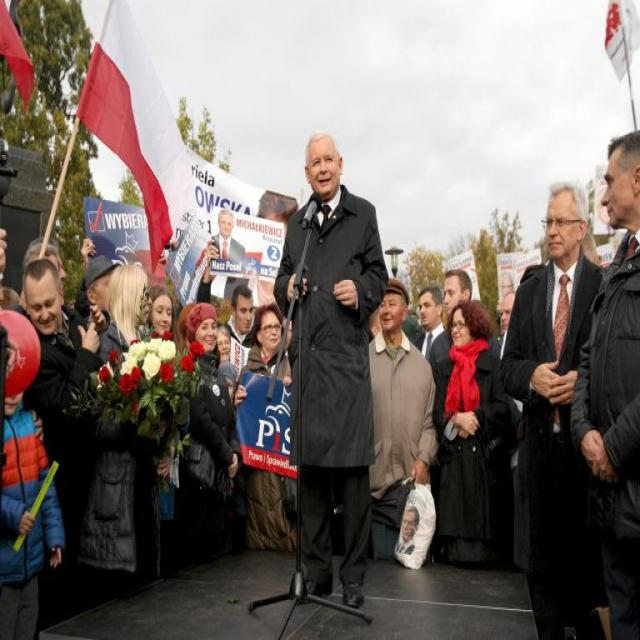body: (272, 125, 392, 615), (498, 170, 622, 639), (565, 125, 639, 639), (73, 261, 176, 610), (22, 255, 112, 619), (429, 298, 509, 570), (174, 204, 298, 375), (367, 274, 439, 561), (174, 298, 245, 572), (133, 281, 192, 579), (0, 389, 67, 640), (232, 300, 292, 554), (0, 220, 120, 310), (482, 293, 520, 572), (426, 266, 502, 385), (367, 283, 450, 387), (412, 285, 451, 361), (225, 281, 258, 351), (397, 500, 425, 562)
